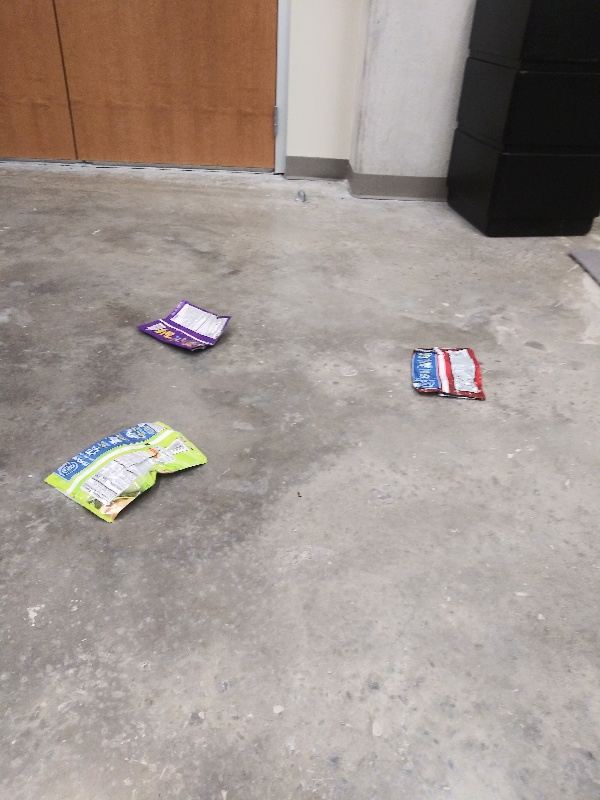bag: (38, 419, 210, 526), (134, 296, 235, 356), (406, 340, 494, 406)
